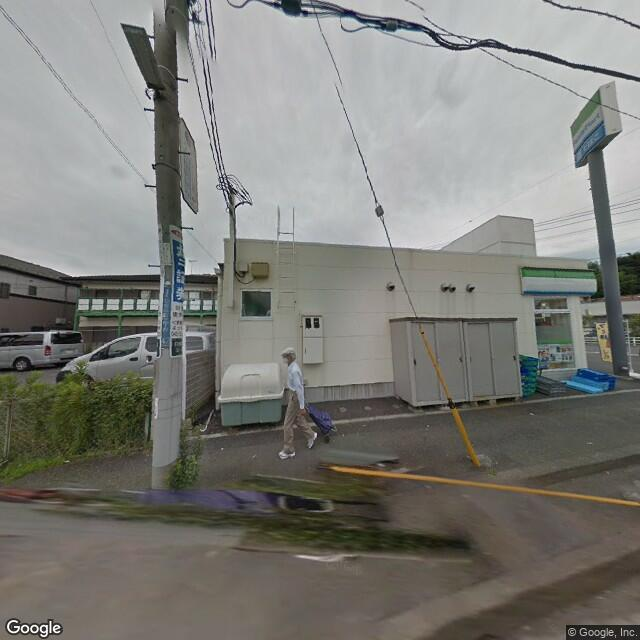family_mart: (516, 264, 598, 296), (570, 86, 604, 158)
